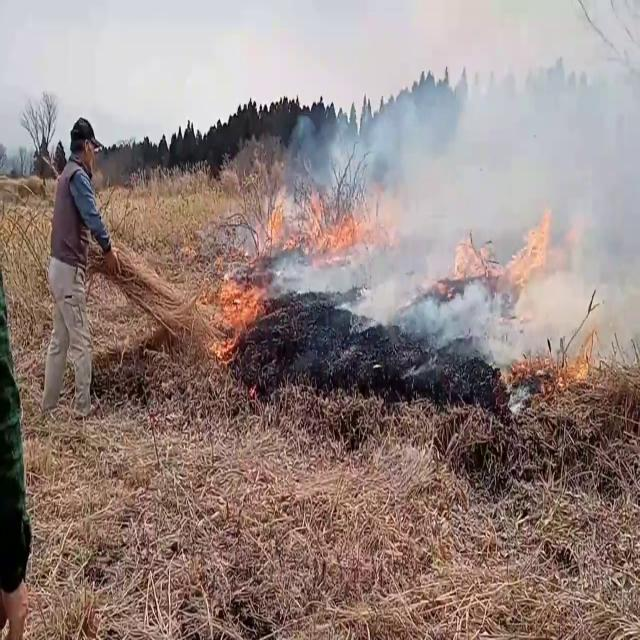Fire: (448, 207, 556, 309), (281, 178, 365, 266), (208, 236, 270, 350)
Smoke: (292, 0, 640, 384)
